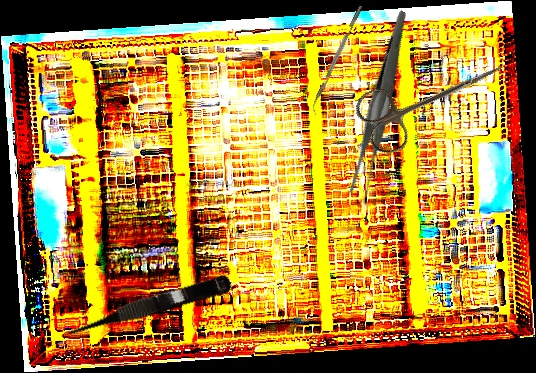Chopper: (307, 4, 368, 116)
Dressing Forceps: (304, 10, 460, 201)
Iris Scissors: (350, 34, 516, 160)
Micro Scissor: (55, 270, 234, 344)
